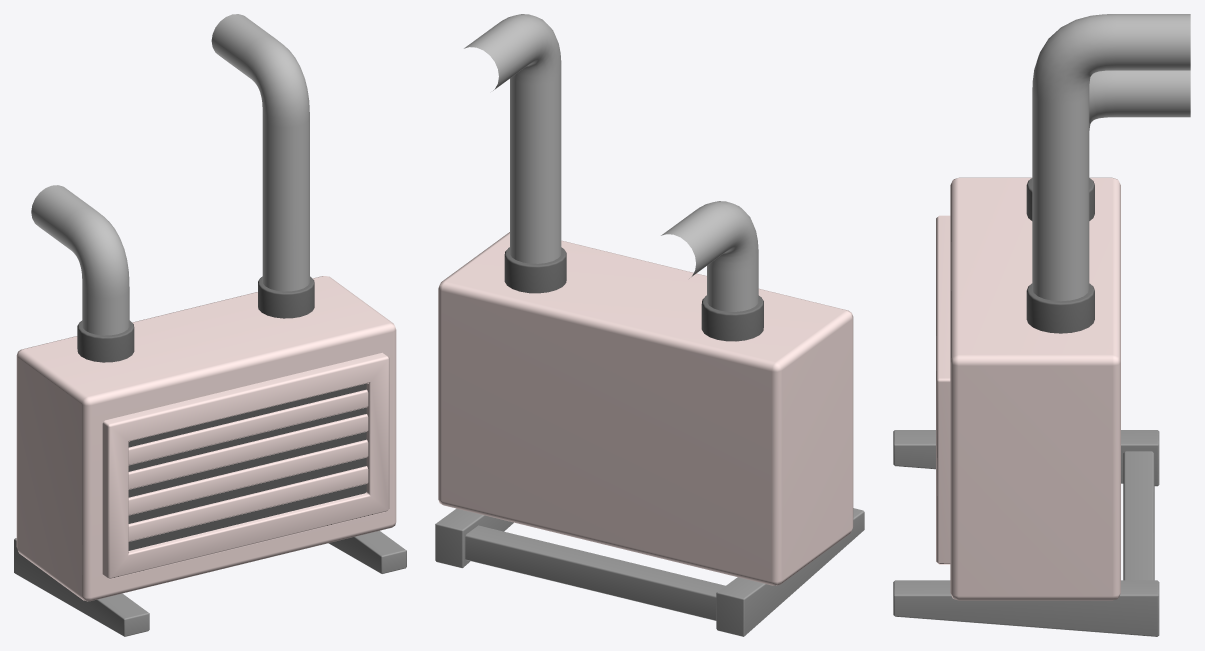
Rendered from City_20_Outdoor_Air_Conditioning_1.glb.
3 renders of one model, left to right at view 1: azimuth 30°, elevation 25°; view 2: azimuth 150°, elevation 25°; view 3: azimuth 270°, elevation 25°, orthographic. The views are drawn at different scales.
Parts seen in each view (by area): view 1: City_20_Outdoor_Air_Conditioning_1; view 2: City_20_Outdoor_Air_Conditioning_1; view 3: City_20_Outdoor_Air_Conditioning_1.
Boxes of the visible parts, x1,y1,x2,y2 form: City_20_Outdoor_Air_Conditioning_1: [14, 14, 406, 636]; City_20_Outdoor_Air_Conditioning_1: [435, 14, 864, 636]; City_20_Outdoor_Air_Conditioning_1: [893, 14, 1190, 636].
Bounding box in the file's own units: 1.1 × 1.65 × 0.753.
1 material, 1 textured.
